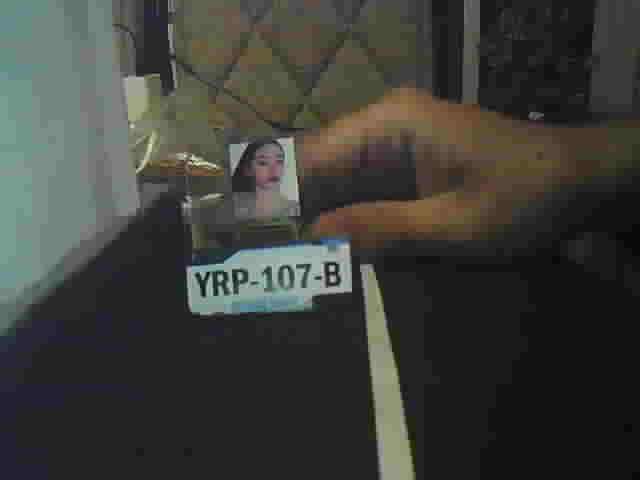PLACA: (182, 232, 354, 322)
ROSTRO: (233, 143, 299, 217)
